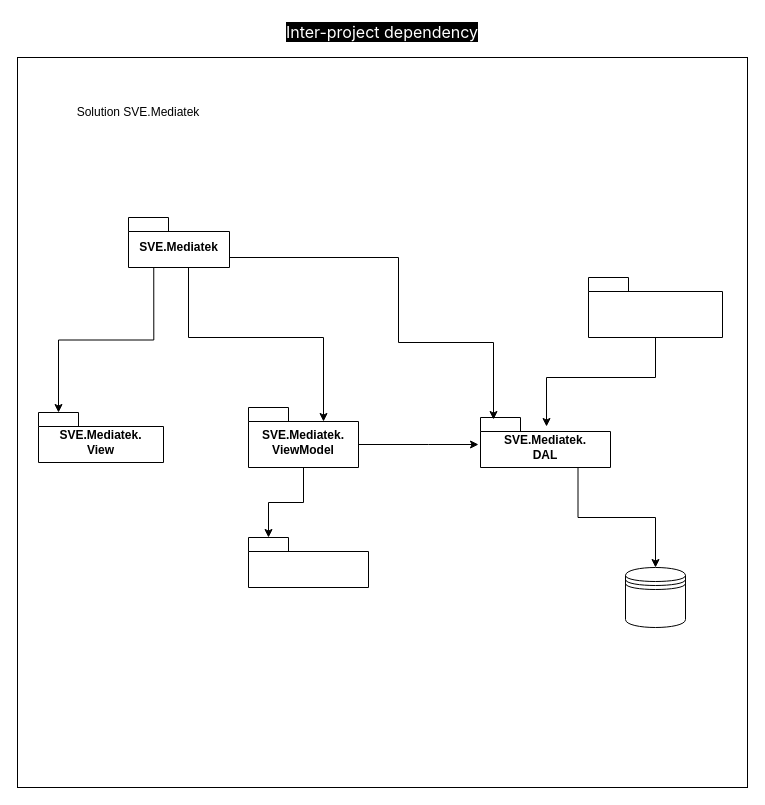
Some shapes in this 765 by 805 pixel diagram are drawn without their labels. Each missing label, with the centre of its shape:
"SVE.Mediatek. DAL. IntegrationTest" belongs at [655,307].
"SVE.Mediatek. Model" belongs at [308,562].
